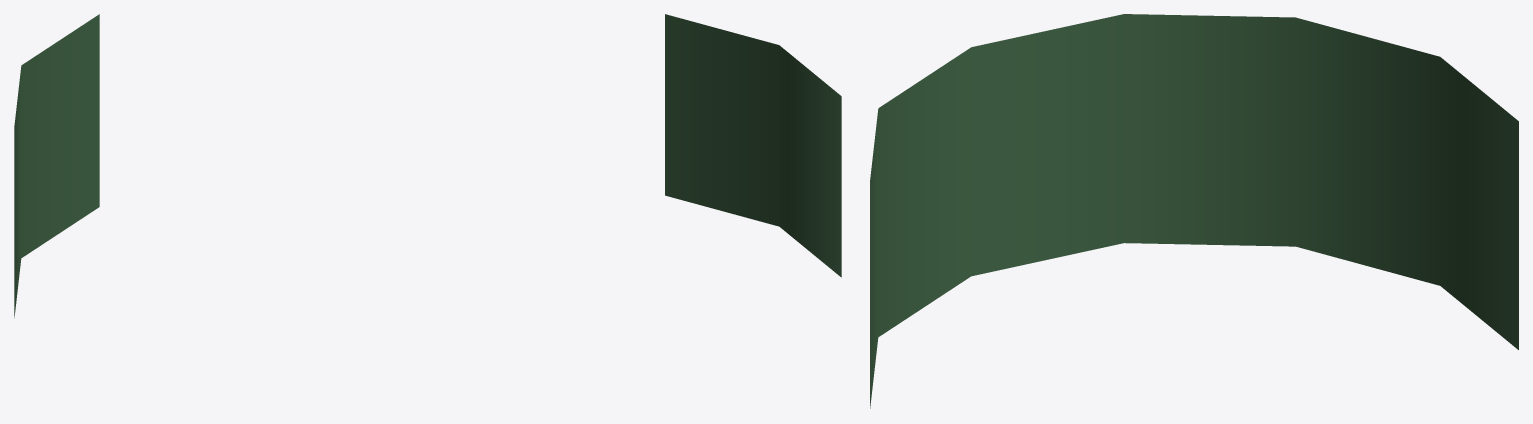
Rendered from CollisionShape2.glb.
3 renders of one model, left to right at view 1: azimuth 30°, elevation 25°; view 2: azimuth 150°, elevation 25°; view 3: azimuth 270°, elevation 25°, orthographic. The views are drawn at different scales.
Visible parts, largest first — view 1: pix.png__; view 2: pix.png__; view 3: pix.png__.
Part boxes in pixels (box(x1,y1,x2,y2)): pix.png__: box(14, 14, 99, 317); pix.png__: box(665, 14, 841, 277); pix.png__: box(870, 14, 1518, 408).
Bounding box in the file's own units: 18.57 × 11.89 × 30.51.
Materials: 1 (1 with a texture image).
